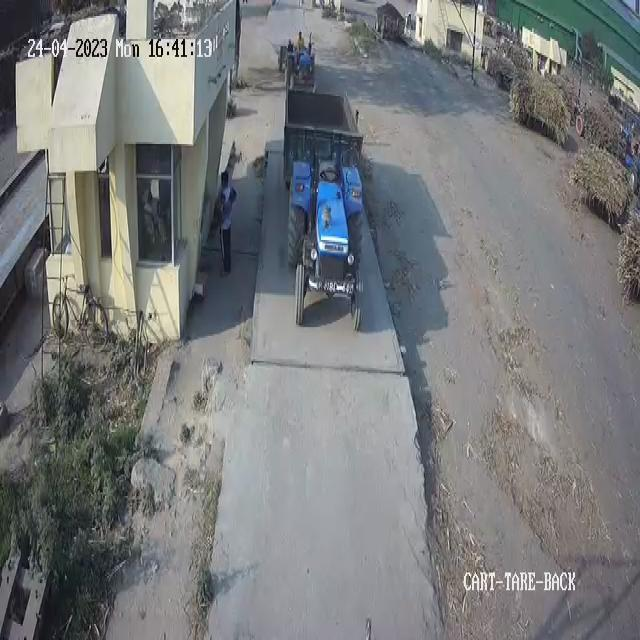Tratores - v5 YOLO V8L 2024-11-13: (282, 148, 370, 341), (281, 34, 320, 94)
